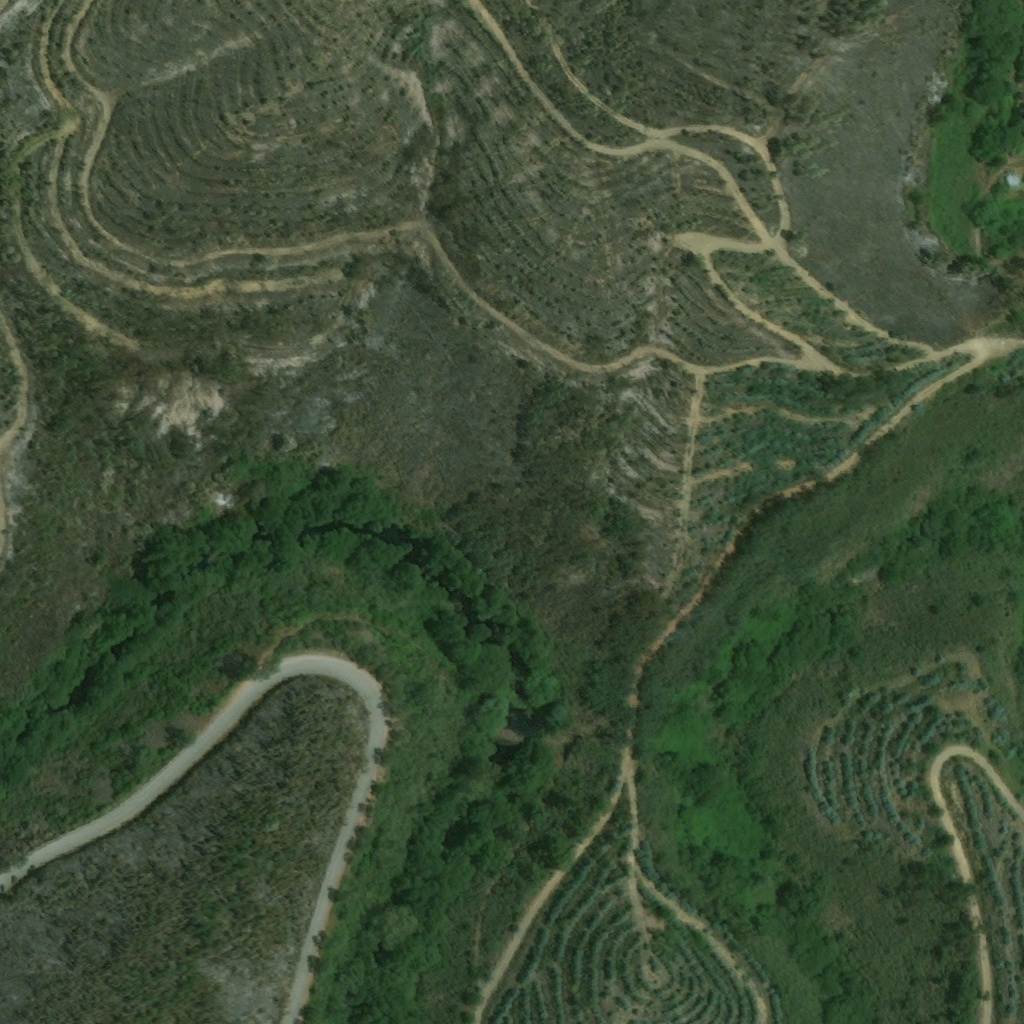0 no-damage: (1004, 173, 1020, 191)
